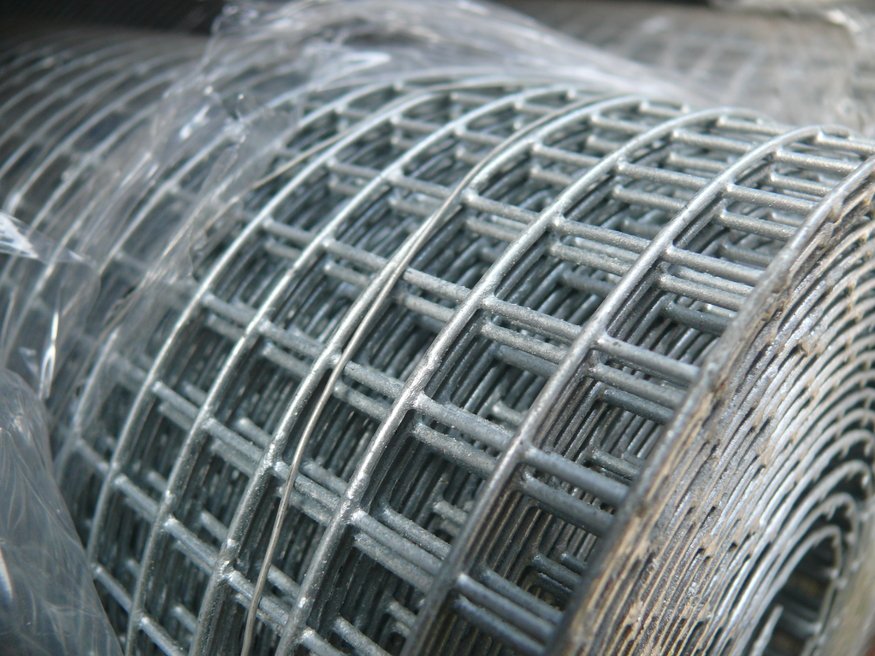Nonrec_Tangler: (66, 47, 820, 616)
